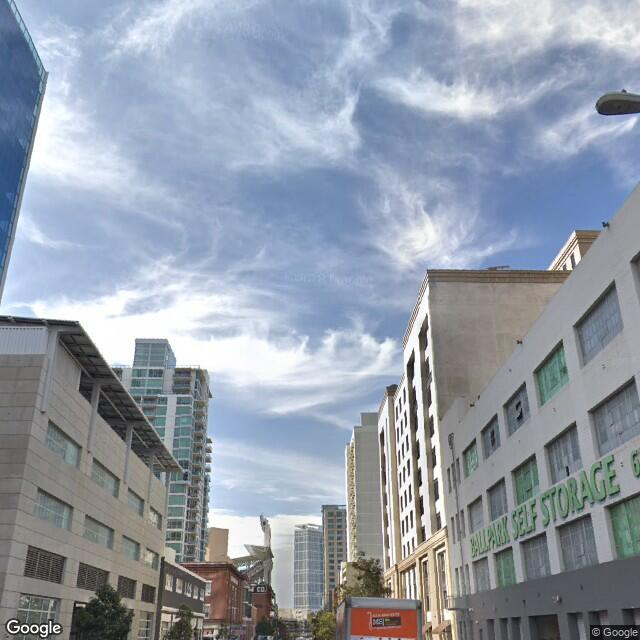light: (593, 85, 640, 119)
window: (577, 296, 614, 370), (601, 389, 632, 457), (561, 518, 590, 571), (81, 512, 114, 547), (502, 397, 529, 428)
